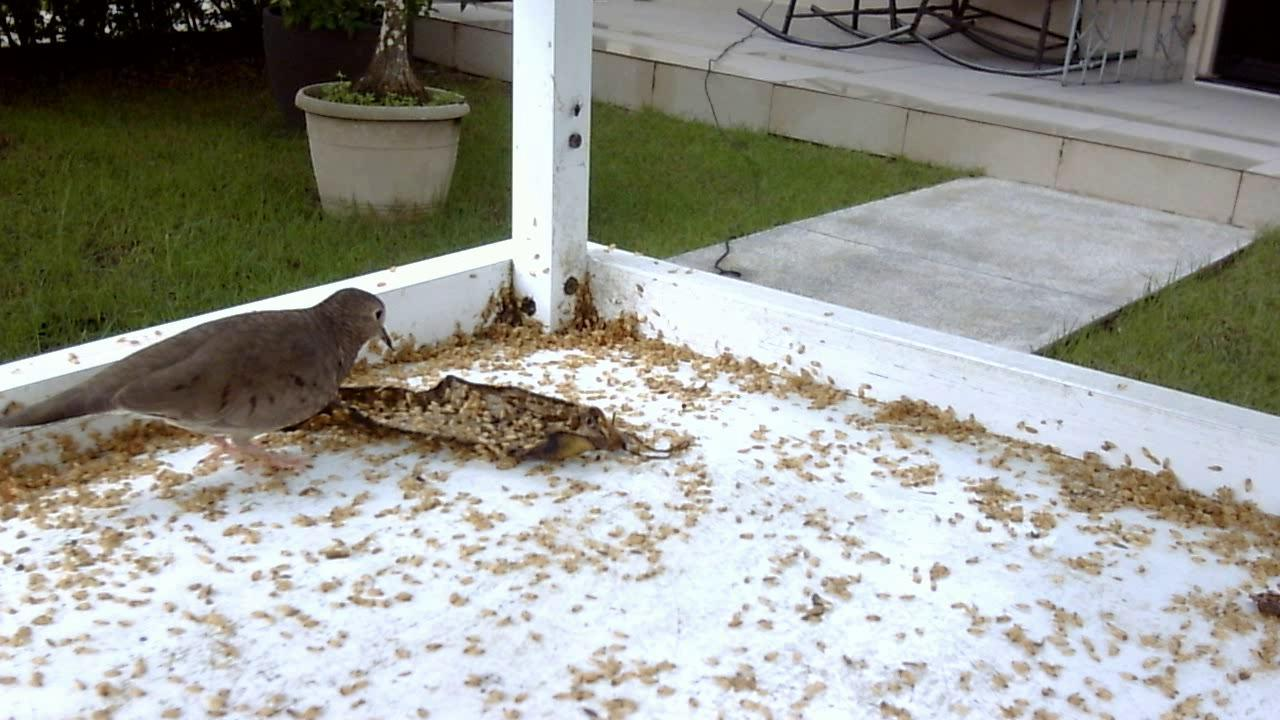rolinha: (6, 282, 401, 483)
